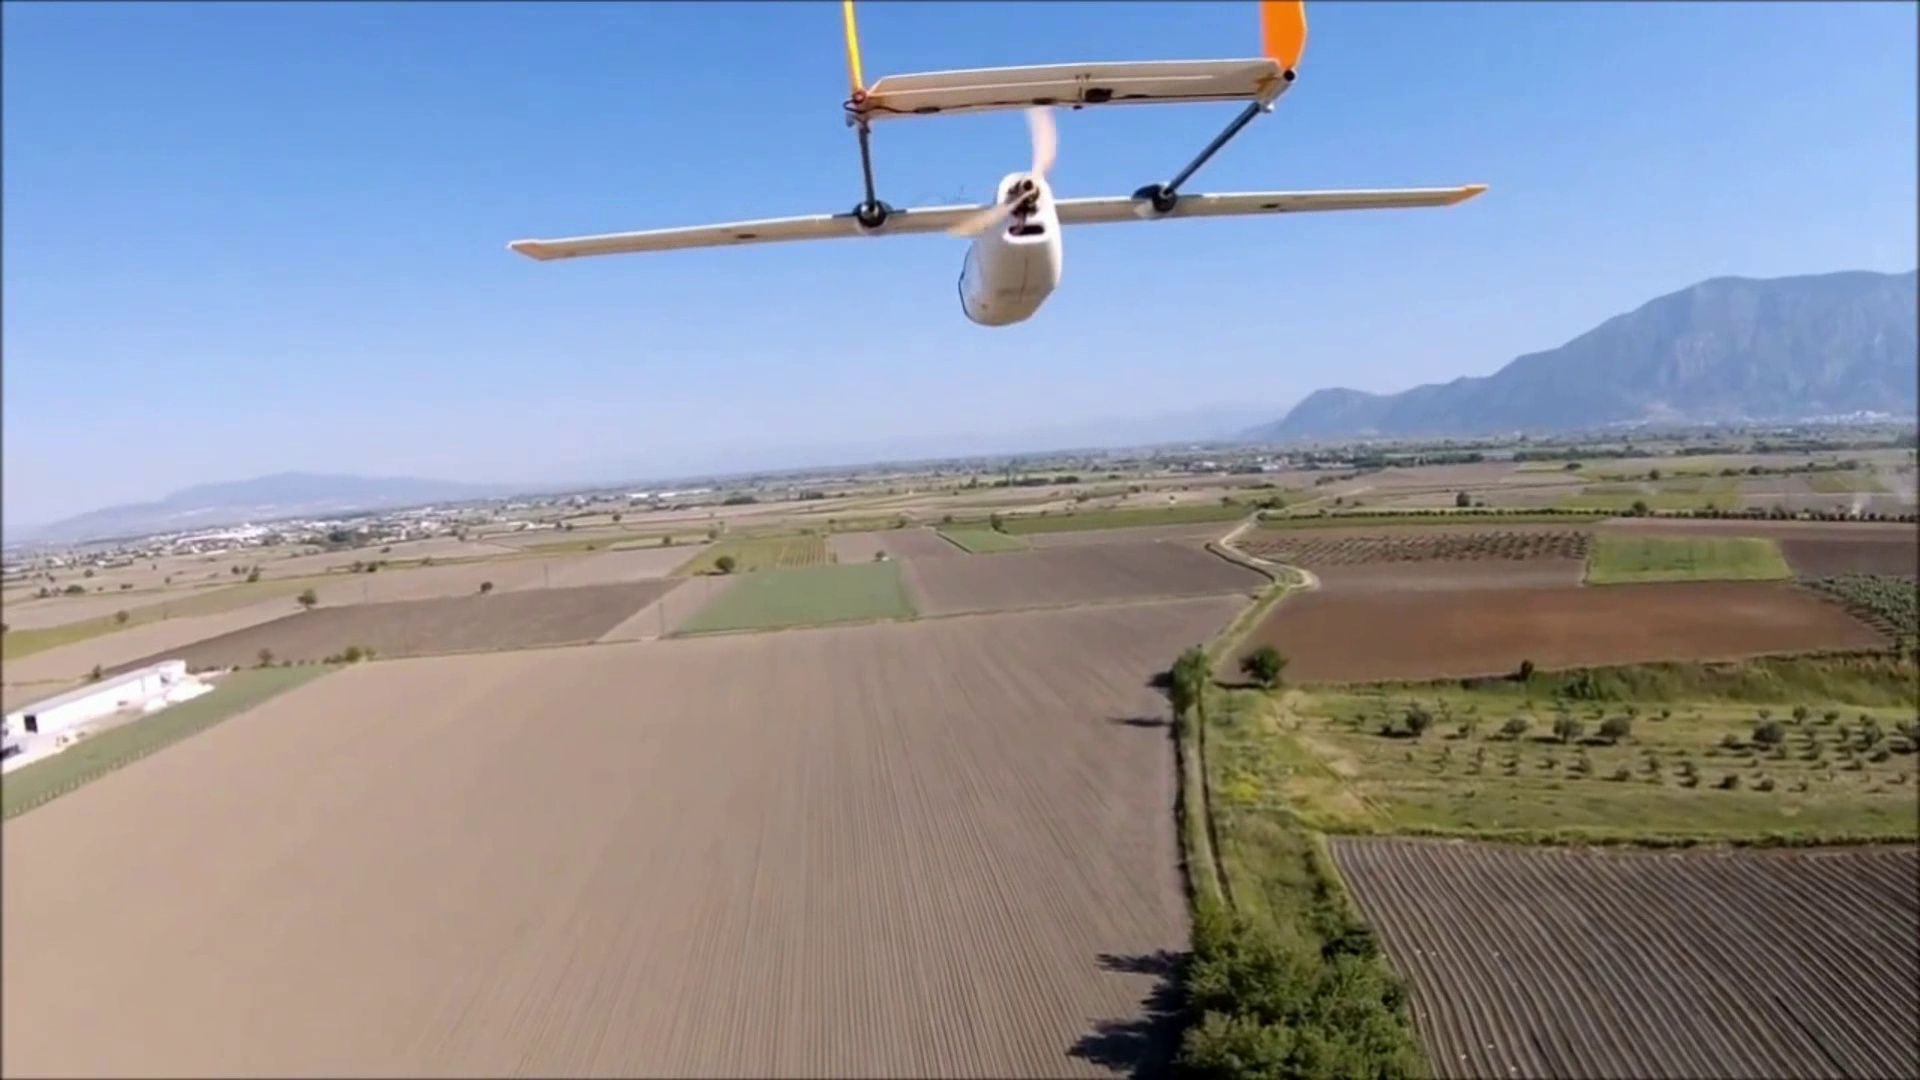airplane: (513, 4, 1491, 328)
